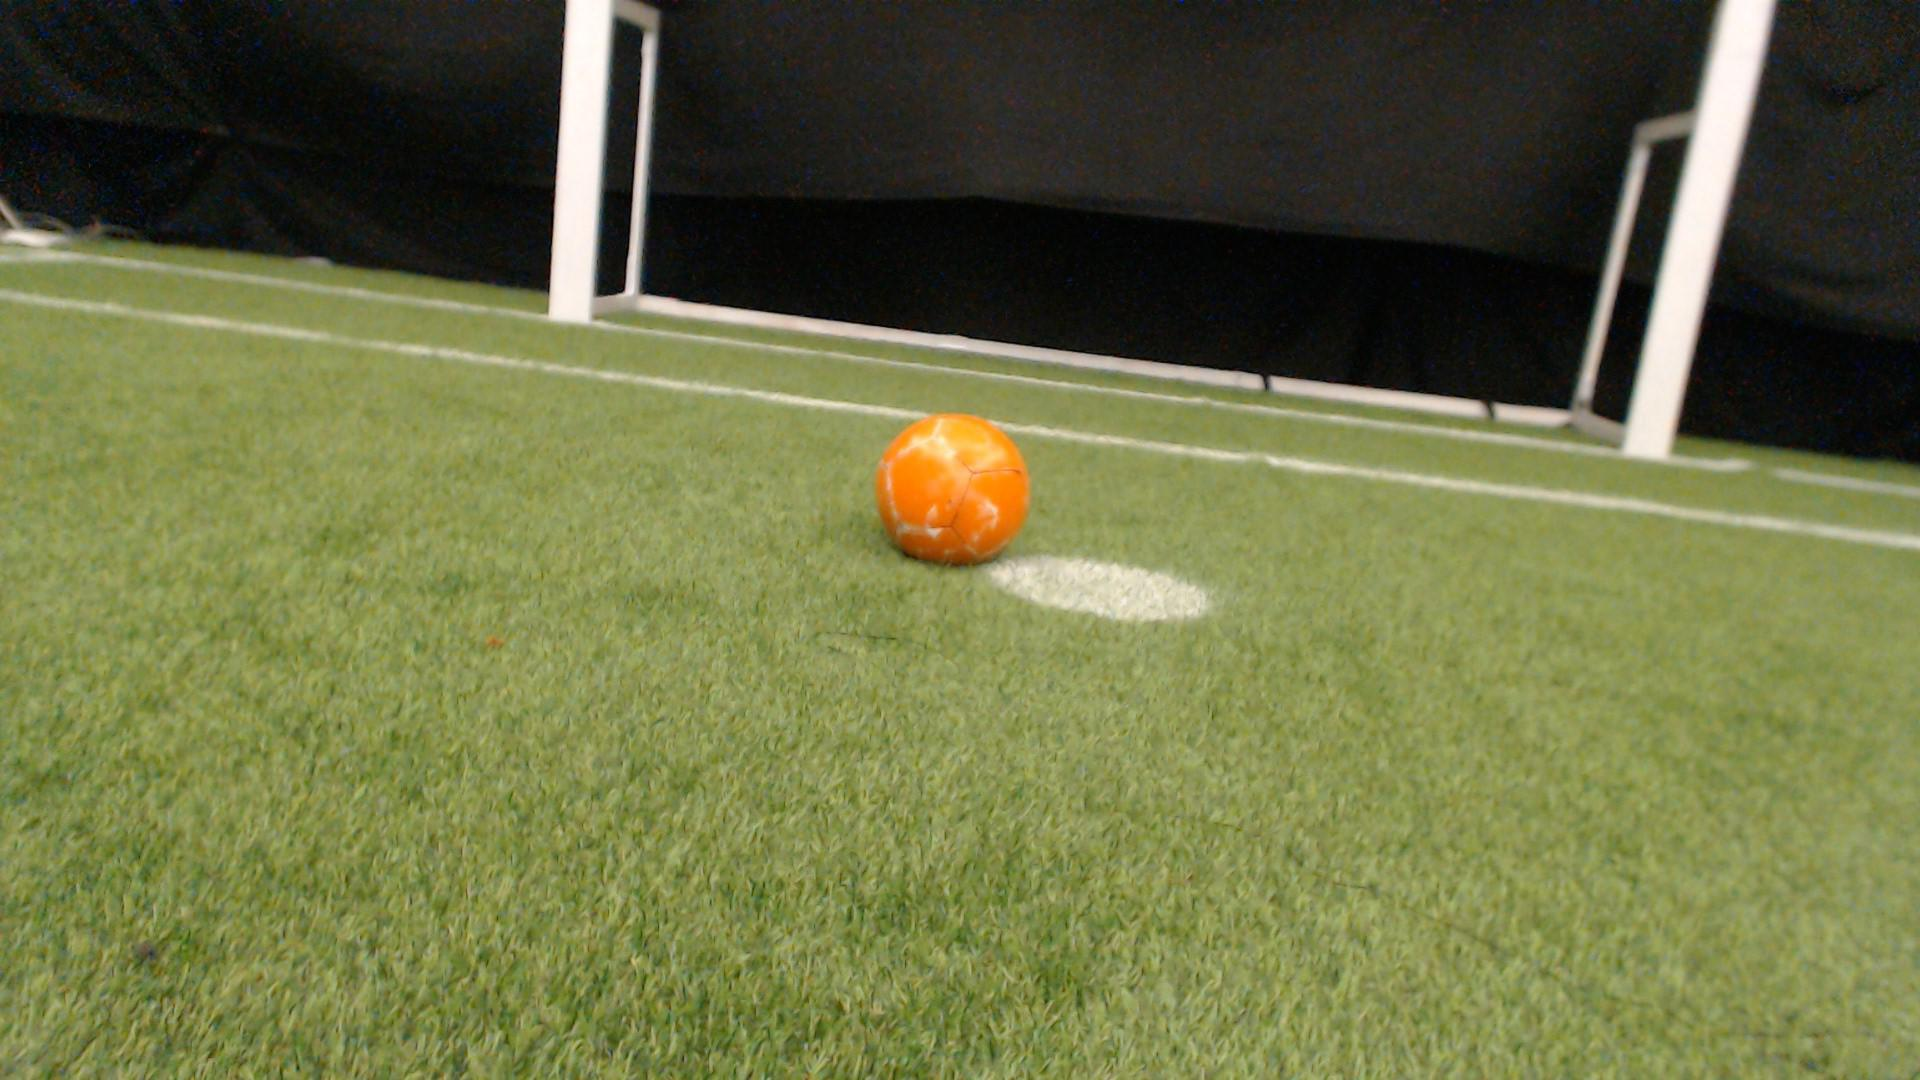bola: (868, 389, 1044, 584)
